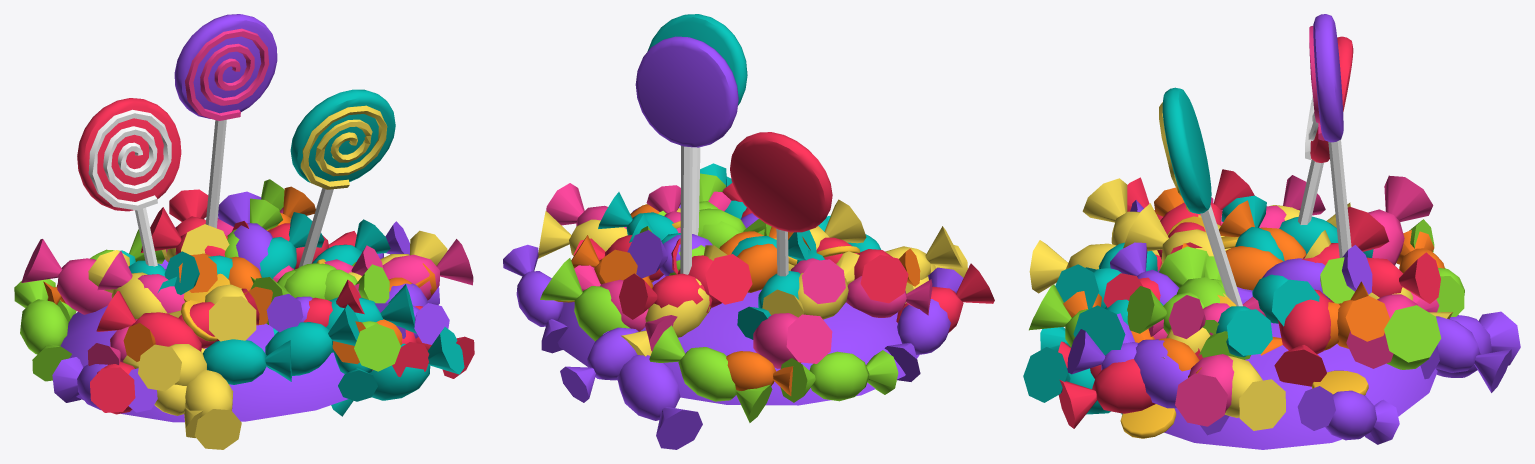
The model's file is candy_pile.obj.
3 views of the same model, side by side, from view 1: azimuth 30°, elevation 25°; view 2: azimuth 150°, elevation 25°; view 3: azimuth 270°, elevation 25° (orthographic). The views are drawn at different scales.
Visible parts, largest first — view 1: candy_pile; view 2: candy_pile; view 3: candy_pile.
Part boxes in pixels (x1,y1,x2,y2): candy_pile: (14, 14, 474, 449); candy_pile: (503, 14, 994, 449); candy_pile: (1023, 14, 1520, 449).
Bounding box in the file's own units: 4.12 × 3.28 × 3.87.
1 material, 1 textured.
